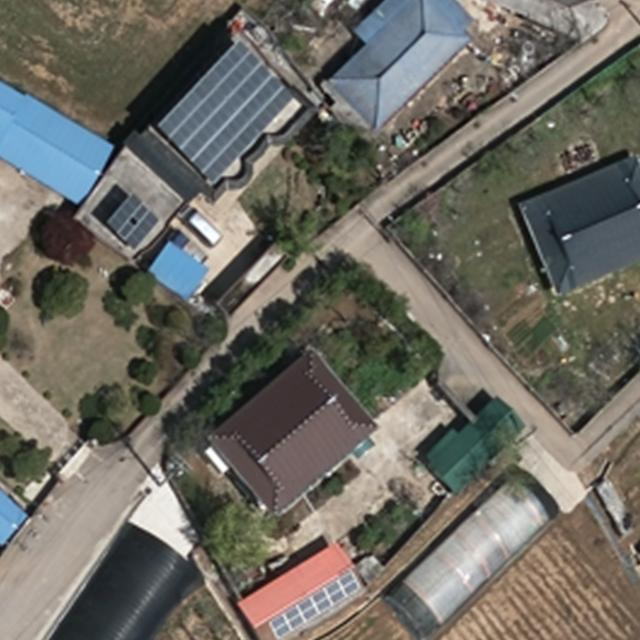panel: (153, 37, 305, 191), (266, 565, 364, 638), (105, 190, 161, 250)
